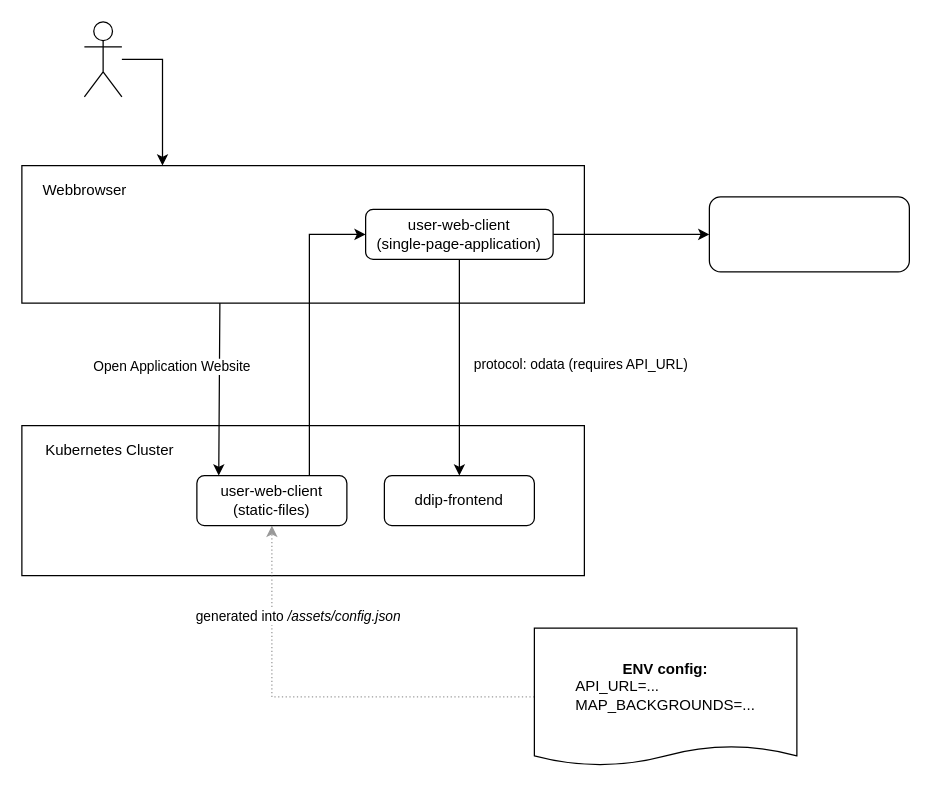
Some shapes in this 931 by 788 pixel diagram are drawn without their labels. The box of each missing label's shape, as (x1, y1, x2, y2) in pixels:
TylingService (World Map Background, e.g. OpenStreetMaps, EOX): (708, 196, 909, 272)
User: (83, 21, 122, 97)
